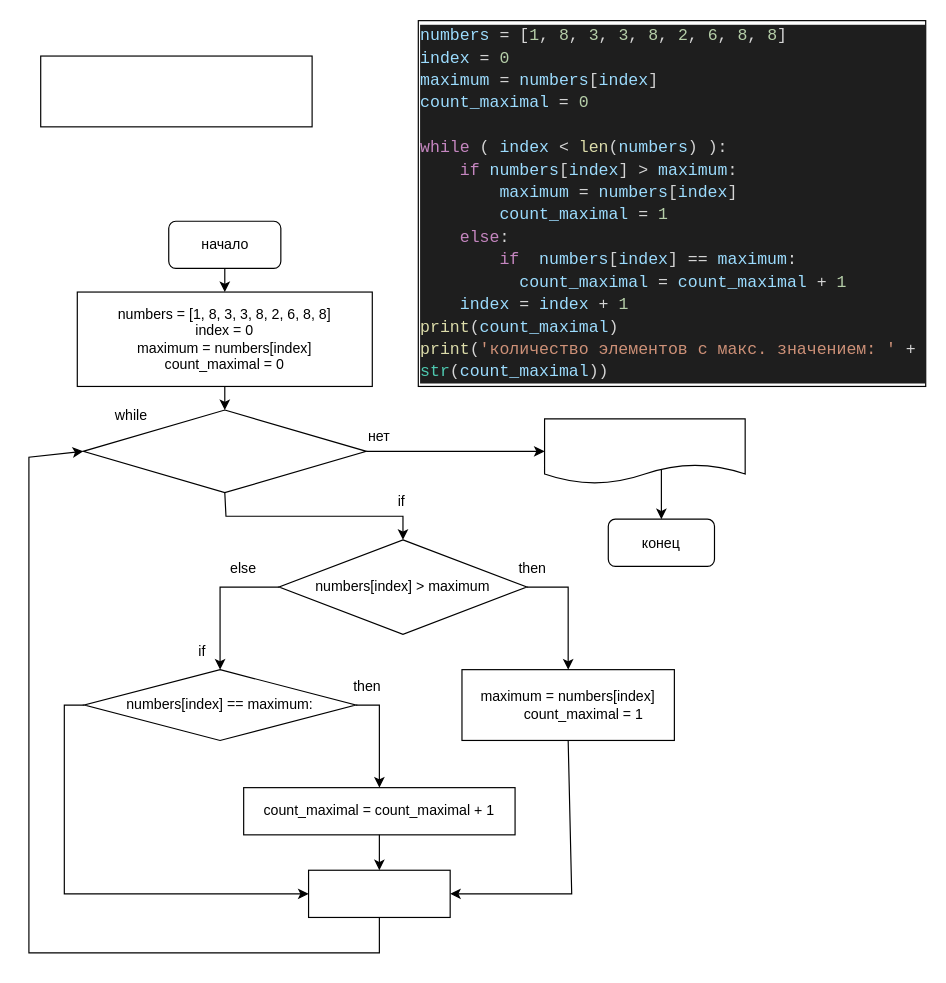
Some shapes in this 946 by 983 pixel diagram are drawn without their labels. Here are the shapes that lost their labels. From the top down, the box of each, then its label:
(40, 55, 312, 127): Задача 5. Составьте блок-схему на основе псевдокода
(82, 409, 366, 493): index < len(numbers)
(543, 418, 745, 484): print(count_maximal)
(307, 869, 450, 917): index = index + 1
